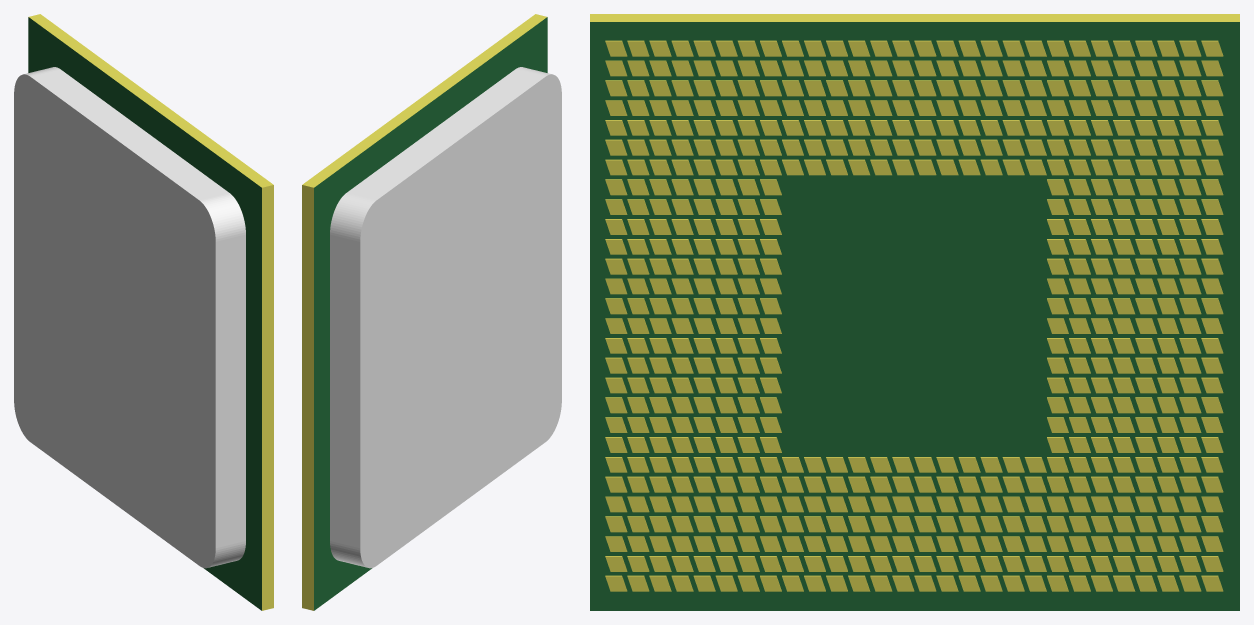
Rendered from gpu_gpu.gltf.
3 renders of one model, left to right at view 1: azimuth 30°, elevation 25°; view 2: azimuth 150°, elevation 25°; view 3: azimuth 270°, elevation 25°, orthographic. The views are drawn at different scales.
Parts seen in each view (by area): view 1: Chip; view 2: Chip; view 3: Chip, Dots.
Part boxes in pixels (left/top/right/bottom): Chip: left=14, top=14, right=273, bottom=610; Chip: left=302, top=14, right=561, bottom=610; Chip: left=590, top=14, right=1239, bottom=610; Dots: left=605, top=40, right=1223, bottom=591.
Bounding box in the file's own units: 0.00533 × 0.05 × 0.05.
